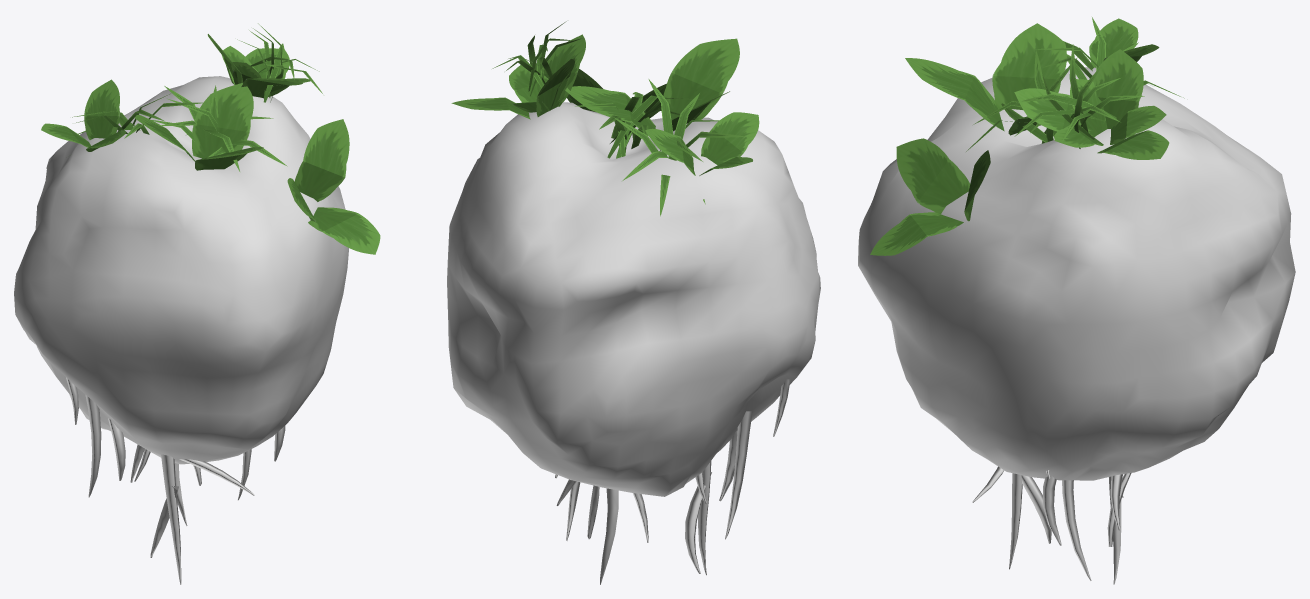
File: KorgEnemy.fbx
3 views of the same model, side by side, from view 1: azimuth 30°, elevation 25°; view 2: azimuth 150°, elevation 25°; view 3: azimuth 270°, elevation 25° (orthographic). The views are drawn at different scales.
Parts seen in each view (by area): view 1: Cube.001, Plane.004; view 2: Cube.001, Plane.004; view 3: Cube.001, Plane.004.
Boxes of the visible parts, left/top/right/bottom form: Cube.001: left=14, top=76, right=348, bottom=584; Plane.004: left=41, top=23, right=380, bottom=254; Cube.001: left=447, top=102, right=820, bottom=584; Plane.004: left=451, top=21, right=759, bottom=216; Cube.001: left=858, top=67, right=1295, bottom=584; Plane.004: left=870, top=17, right=1184, bottom=255.
Bounding box in the file's own units: 63.95 × 98.14 × 68.19.
1 material, 1 textured.
